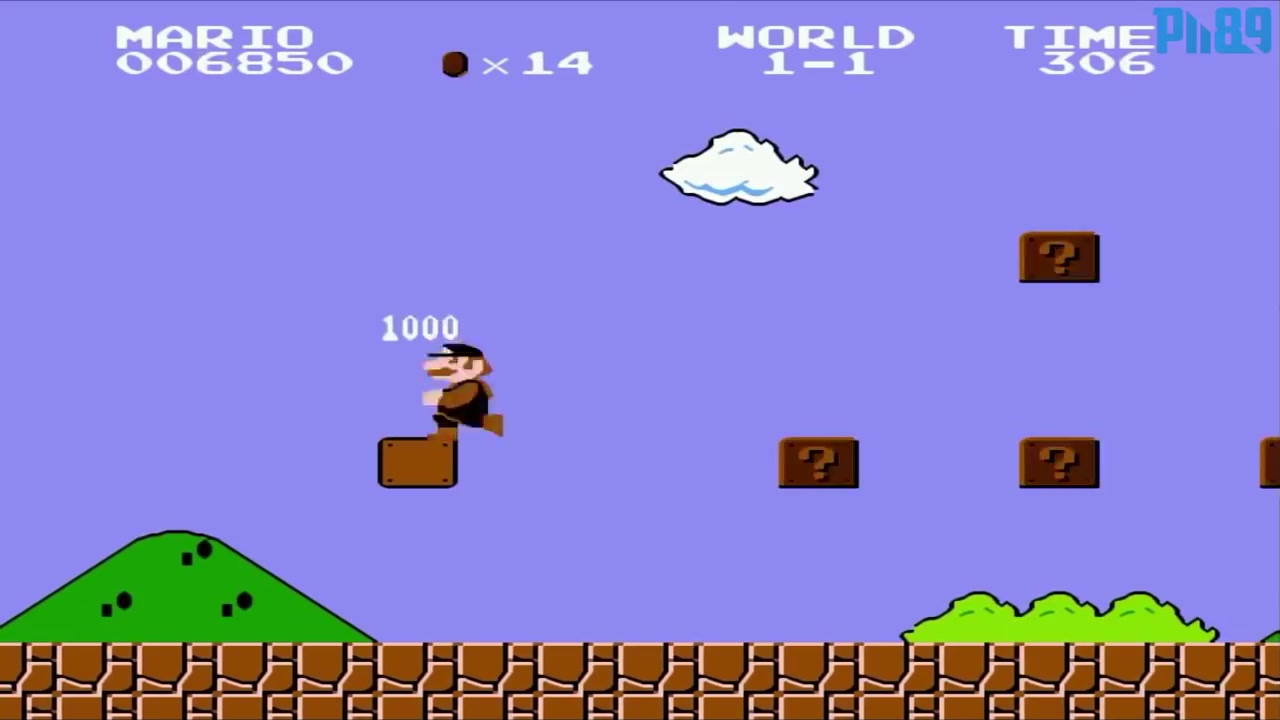mario: (404, 334, 512, 448)
